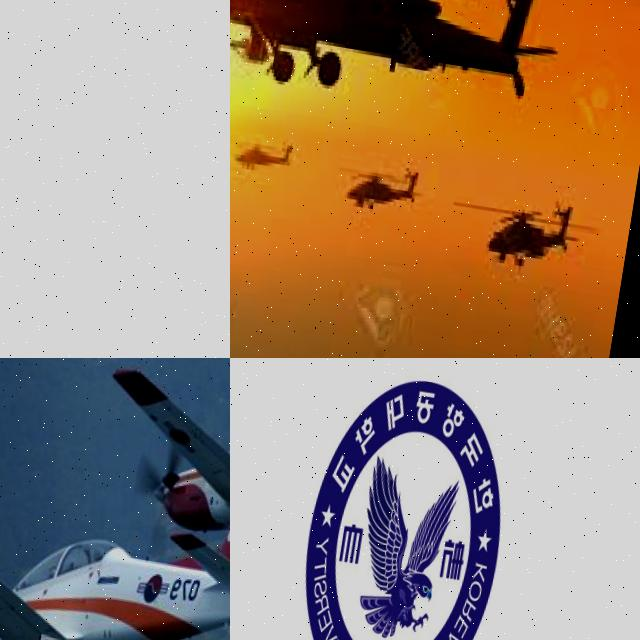Apache: (230, 0, 636, 134), (440, 178, 594, 282), (334, 158, 428, 224), (232, 128, 296, 180)
KAU_Marker: (280, 366, 522, 640)
KT-1: (0, 398, 230, 640), (92, 358, 230, 575)
